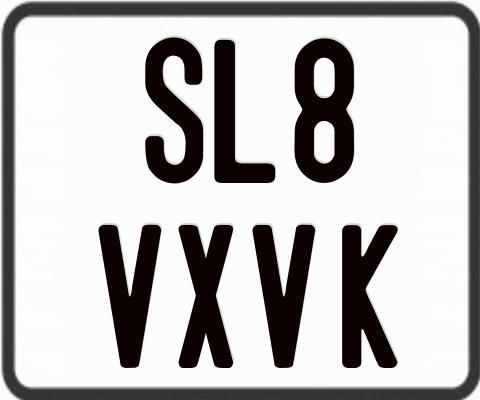8: (291, 37, 352, 186)
K: (340, 225, 397, 374)
L: (214, 38, 275, 181)
S: (144, 37, 208, 188)
V: (251, 224, 314, 368), (97, 222, 159, 368)
X: (177, 224, 231, 372)
